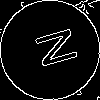N: (25, 25, 79, 73)
